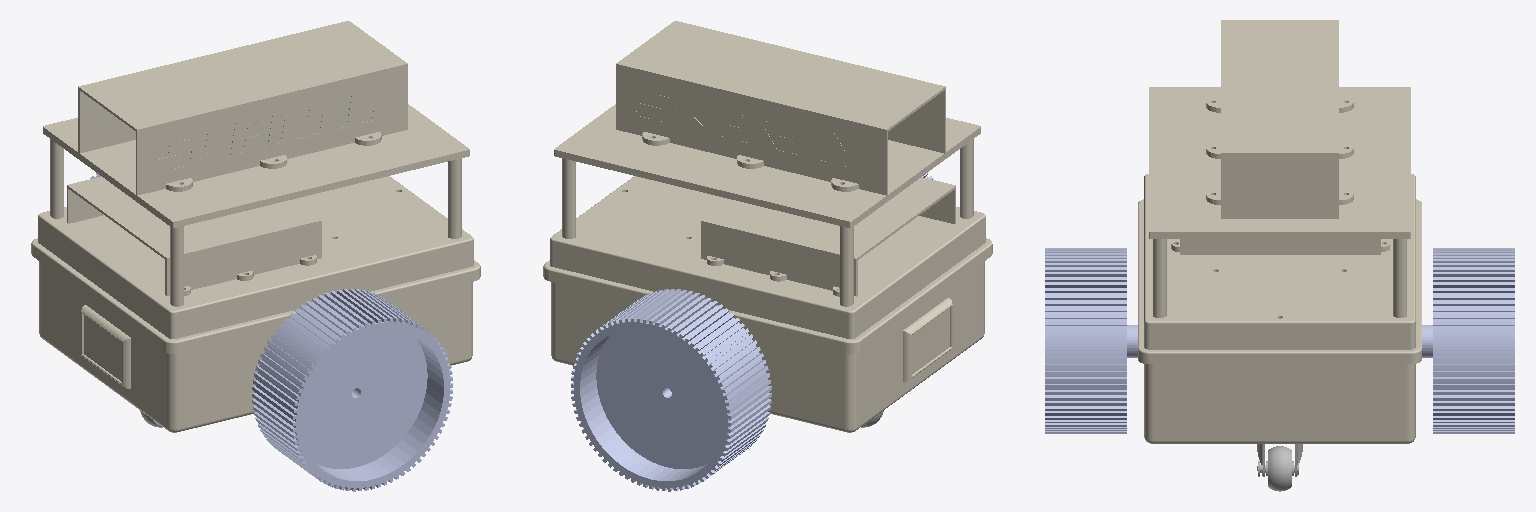
The robot description file, URDF, robot "Swarmy_Bot_URDF":
<?xml version="1.0" encoding="utf-8"?>
<!--
  ============================================================================
  Project Handlers: Naman Sain & Souvik Mallik
  
  Maintainers:
  - Naman Sain   : ROS FULL STACK and Development with Software to Hardware Communication
  - Souvik Mallik: Embedded Maintainer
  ============================================================================
-->

<!-- This URDF was automatically created by SolidWorks to URDF Exporter! Originally created by Stephen Brawner (brawner@gmail.com) 
     Commit Version: 1.6.0-4-g7f85cfe  Build Version: 1.6.7995.38578
     For more information, please see http://wiki.ros.org/sw_urdf_exporter -->
<robot
  name="Swarmy_Bot_URDF">
<link
    name="base_link">
    <inertial>
      <origin
        xyz="-0.0022038 -2.9147E-05 0.056907"
        rpy="0 0 0" />
      <mass
        value="0.6411" />
      <inertia
        ixx="0.001273"
        ixy="1.7039E-06"
        ixz="-8.8623E-07"
        iyy="0.0019601"
        iyz="-2.5019E-07"
        izz="0.0030778" />
    </inertial>
    <visual>
      <origin
        xyz="0 0 0"
        rpy="0 0 0" />
      <geometry>
        <mesh
          filename="package://Swarmy_Bot_URDF/meshes/base_link.STL" />
      </geometry>
      <material
        name="">
        <color
          rgba="0.84314 0.81569 0.75294 1" />
      </material>
    </visual>
    <collision>
      <origin
        xyz="0 0 0"
        rpy="0 0 0" />
      <geometry>
        <mesh
          filename="package://Swarmy_Bot_URDF/meshes/base_link.STL" />
      </geometry>
    </collision>
  </link>
  <link
    name="lw_link">
    <inertial>
      <origin
        xyz="-2.7973E-12 9.3427E-13 -0.0051894"
        rpy="0 0 0" />
      <mass
        value="0.12994" />
      <inertia
        ixx="0.00011932"
        ixy="-4.5971E-15"
        ixz="-6.5101E-15"
        iyy="0.00011932"
        iyz="-1.1924E-16"
        izz="0.00021173" />
    </inertial>
    <visual>
      <origin
        xyz="0 0 0"
        rpy="0 0 0" />
      <geometry>
        <mesh
          filename="package://Swarmy_Bot_URDF/meshes/lw_link.STL" />
      </geometry>
      <material
        name="">
        <color
          rgba="0.79216 0.81961 0.93333 1" />
      </material>
    </visual>
    <collision>
      <origin
        xyz="0 0 0"
        rpy="0 0 0" />
      <geometry>
        <mesh
          filename="package://Swarmy_Bot_URDF/meshes/lw_link.STL" />
      </geometry>
    </collision>
  </link>
  <joint
    name="lw_joint"
    type="continuous">
    <origin
      xyz="0 0.11086 0.018076"
      rpy="-1.5708 0 0" />
    <parent
      link="base_link" />
    <child
      link="lw_link" />
    <axis
      xyz="0 0 1" />
    <limit
      effort="10"
      velocity="10" />
    <dynamics
      damping="0.1"
      friction="0.1" />
  </joint>
  <link
    name="rw_link">
    <inertial>
      <origin
        xyz="9.3424E-13 -2.7974E-12 0.0051894"
        rpy="0 0 0" />
      <mass
        value="0.12994" />
      <inertia
        ixx="0.00011932"
        ixy="-4.5971E-15"
        ixz="1.186E-16"
        iyy="0.00011932"
        iyz="6.5098E-15"
        izz="0.00021173" />
    </inertial>
    <visual>
      <origin
        xyz="0 0 0"
        rpy="0 0 0" />
      <geometry>
        <mesh
          filename="package://Swarmy_Bot_URDF/meshes/rw_link.STL" />
      </geometry>
      <material
        name="">
        <color
          rgba="0.79216 0.81961 0.93333 1" />
      </material>
    </visual>
    <collision>
      <origin
        xyz="0 0 0"
        rpy="0 0 0" />
      <geometry>
        <mesh
          filename="package://Swarmy_Bot_URDF/meshes/rw_link.STL" />
      </geometry>
    </collision>
  </link>
  <joint
    name="rw_joint"
    type="continuous">
    <origin
      xyz="0 -0.11086 0.018076"
      rpy="-1.5708 0 0" />
    <parent
      link="base_link" />
    <child
      link="rw_link" />
    <axis
      xyz="0 0 -1" />
    <limit
      effort="10"
      velocity="10" />
    <dynamics
      damping="0.1"
      friction="0.1" />
  </joint>
  <link
    name="fc_link">
    <inertial>
      <origin
        xyz="0.0045618 -0.0003535 -0.004413"
        rpy="0 0 0" />
      <mass
        value="0.0025913" />
      <inertia
        ixx="2.3519E-07"
        ixy="-8.1922E-10"
        ixz="3.7218E-08"
        iyy="1.9941E-07"
        iyz="1.3893E-09"
        izz="2.9106E-07" />
    </inertial>
    <visual>
      <origin
        xyz="0 0 0"
        rpy="0 0 0" />
      <geometry>
        <mesh
          filename="package://Swarmy_Bot_URDF/meshes/fc_link.STL" />
      </geometry>
      <material
        name="">
        <color
          rgba="0.7451 0.73725 0.72941 1" />
      </material>
    </visual>
    <collision>
      <origin
        xyz="0 0 0"
        rpy="0 0 0" />
      <geometry>
        <mesh
          filename="package://Swarmy_Bot_URDF/meshes/fc_link.STL" />
      </geometry>
    </collision>
  </link>
  <joint
    name="fc_joint"
    type="continuous">
    <origin
      xyz="0.071755 0 -0.0028894"
      rpy="0 0 0" />
    <parent
      link="base_link" />
    <child
      link="fc_link" />
    <axis
      xyz="0 0 1" />
    <limit
      effort="10"
      velocity="10" />
  </joint>
  <link
    name="fcw_link">
    <inertial>
      <origin
        xyz="0 -6.9389E-18 0"
        rpy="0 0 0" />
      <mass
        value="0.0038261" />
      <inertia
        ixx="2.0561E-07"
        ixy="-5.0731E-25"
        ixz="-2.2457E-13"
        iyy="2.0561E-07"
        iyz="6.4224E-23"
        izz="3.2679E-07" />
    </inertial>
    <visual>
      <origin
        xyz="0 0 0"
        rpy="0 0 0" />
      <geometry>
        <mesh
          filename="package://Swarmy_Bot_URDF/meshes/fcw_link.STL" />
      </geometry>
      <material
        name="">
        <color
          rgba="0.74902 0.74902 0.74902 1" />
      </material>
    </visual>
    <collision>
      <origin
        xyz="0 0 0"
        rpy="0 0 0" />
      <geometry>
        <mesh
          filename="package://Swarmy_Bot_URDF/meshes/fcw_link.STL" />
      </geometry>
    </collision>
  </link>
  <joint
    name="fcw_joint"
    type="continuous">
    <origin
      xyz="0.012 0 -0.017111"
      rpy="-1.5708 0 0" />
    <parent
      link="fc_link" />
    <child
      link="fcw_link" />
    <axis
      xyz="0 0 -1" />
    <limit
      effort="10"
      velocity="10" />
    <dynamics
      damping="0.1"
      friction="0.1" />
  </joint>
  <link
    name="rc_link">
    <inertial>
      <origin
        xyz="0 0 0"
        rpy="0 0 0" />
      <mass
        value="0" />
      <inertia
        ixx="0"
        ixy="0"
        ixz="0"
        iyy="0"
        iyz="0"
        izz="0" />
    </inertial>
    <visual>
      <origin
        xyz="0 0 0"
        rpy="0 0 0" />
      <geometry>
        <mesh
          filename="package://Swarmy_Bot_URDF/meshes/rc_link.STL" />
      </geometry>
      <material
        name="">
        <color
          rgba="1 1 1 1" />
      </material>
    </visual>
    <collision>
      <origin
        xyz="0 0 0"
        rpy="0 0 0" />
      <geometry>
        <mesh
          filename="package://Swarmy_Bot_URDF/meshes/rc_link.STL" />
      </geometry>
    </collision>
  </link>
  <joint
    name="rc_joint"
    type="continuous">
    <origin
      xyz="-0.071755 0 -0.0028894"
      rpy="0 0 0" />
    <parent
      link="base_link" />
    <child
      link="rc_link" />
    <axis
      xyz="0 0 1" />
  </joint>
  <link
    name="rcw_link">
    <inertial>
      <origin
        xyz="0 0 -5.2042E-18"
        rpy="0 0 0" />
      <mass
        value="0.0038261" />
      <inertia
        ixx="2.0561E-07"
        ixy="-5.0732E-25"
        ixz="-2.2457E-13"
        iyy="2.0561E-07"
        iyz="5.0459E-23"
        izz="3.2679E-07" />
    </inertial>
    <visual>
      <origin
        xyz="0 0 0"
        rpy="0 0 0" />
      <geometry>
        <mesh
          filename="package://Swarmy_Bot_URDF/meshes/rcw_link.STL" />
      </geometry>
      <material
        name="">
        <color
          rgba="0.74902 0.74902 0.74902 1" />
      </material>
    </visual>
    <collision>
      <origin
        xyz="0 0 0"
        rpy="0 0 0" />
      <geometry>
        <mesh
          filename="package://Swarmy_Bot_URDF/meshes/rcw_link.STL" />
      </geometry>
    </collision>
  </link>
  <joint
    name="rcw_joint"
    type="continuous">
    <origin
      xyz="0.012 0 -0.017111"
      rpy="-1.5708 0 0" />
    <parent
      link="rc_link" />
    <child
      link="rcw_link" />
    <axis
      xyz="0 0 -1" />
    <limit
      effort="10"
      velocity="10" />
    <dynamics
      damping="0.1"
      friction="0.1" />
  </joint>
</robot>

--- Render facts (derived) ---
The picture shows the robot from 3 angles, left to right: view 1: azimuth 30°, elevation 25°; view 2: azimuth 150°, elevation 25°; view 3: azimuth 270°, elevation 25°; orthographic projection.
Model Swarmy_Bot_URDF with 7 links and 6 joints (6 continuous), rooted at base_link, posed every joint at zero.
Visible links, largest first — view 1: base_link, rw_link; view 2: base_link, lw_link; view 3: base_link, lw_link, rw_link, fcw_link.
Boxes of the visible links, box(x1,y1,x2,y2) form: base_link: box(31, 21, 480, 432); rw_link: box(252, 289, 452, 491); base_link: box(543, 21, 992, 432); lw_link: box(571, 289, 771, 491); base_link: box(1138, 20, 1421, 443); lw_link: box(1422, 248, 1514, 433); rw_link: box(1045, 248, 1137, 433); fcw_link: box(1266, 446, 1293, 491).
Bounding box of the posed robot: 0.2013 × 0.2577 × 0.2011 m (x, y, z).
Meshes: 7 distinct files referenced, 6 mesh visuals loaded (6 binary STL); not drawn: 1 (reference not matched to a file when rendering).
